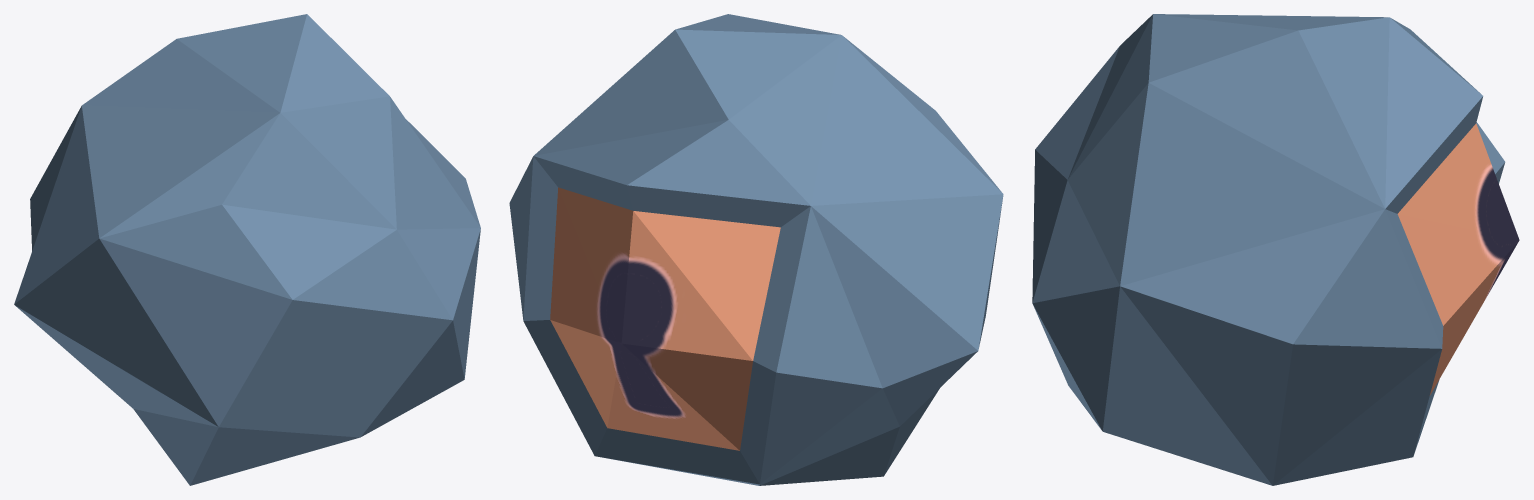
The model's file is Lock.fbx.
3 views of the same model, side by side, from view 1: azimuth 30°, elevation 25°; view 2: azimuth 150°, elevation 25°; view 3: azimuth 270°, elevation 25° (orthographic). The views are drawn at different scales.
Parts seen in each view (by area): view 1: Icosphere; view 2: Icosphere; view 3: Icosphere.
Part boxes in pixels (bbox=[...]): Icosphere: bbox=[14, 14, 480, 485]; Icosphere: bbox=[509, 14, 1003, 485]; Icosphere: bbox=[1032, 14, 1519, 485].
Bounding box in the file's own units: 239 × 209 × 201.
Materials: 1 (1 with a texture image).
